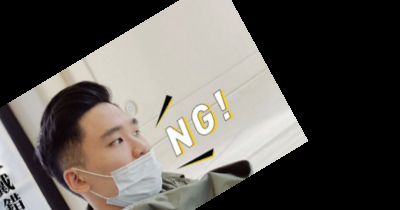mask_weared_incorrect: (32, 80, 166, 204)
